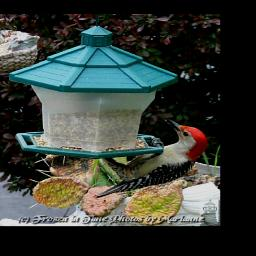Woodpecker: (93, 118, 208, 198)
